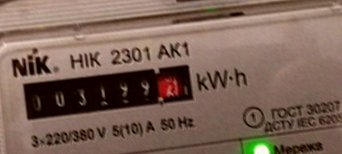0: (54, 87, 67, 107), (31, 91, 42, 110)
1: (97, 80, 108, 99)
3: (76, 85, 88, 106)
6: (164, 81, 175, 96)
9: (118, 77, 130, 98), (140, 77, 152, 96)
screen: (15, 54, 202, 126)
